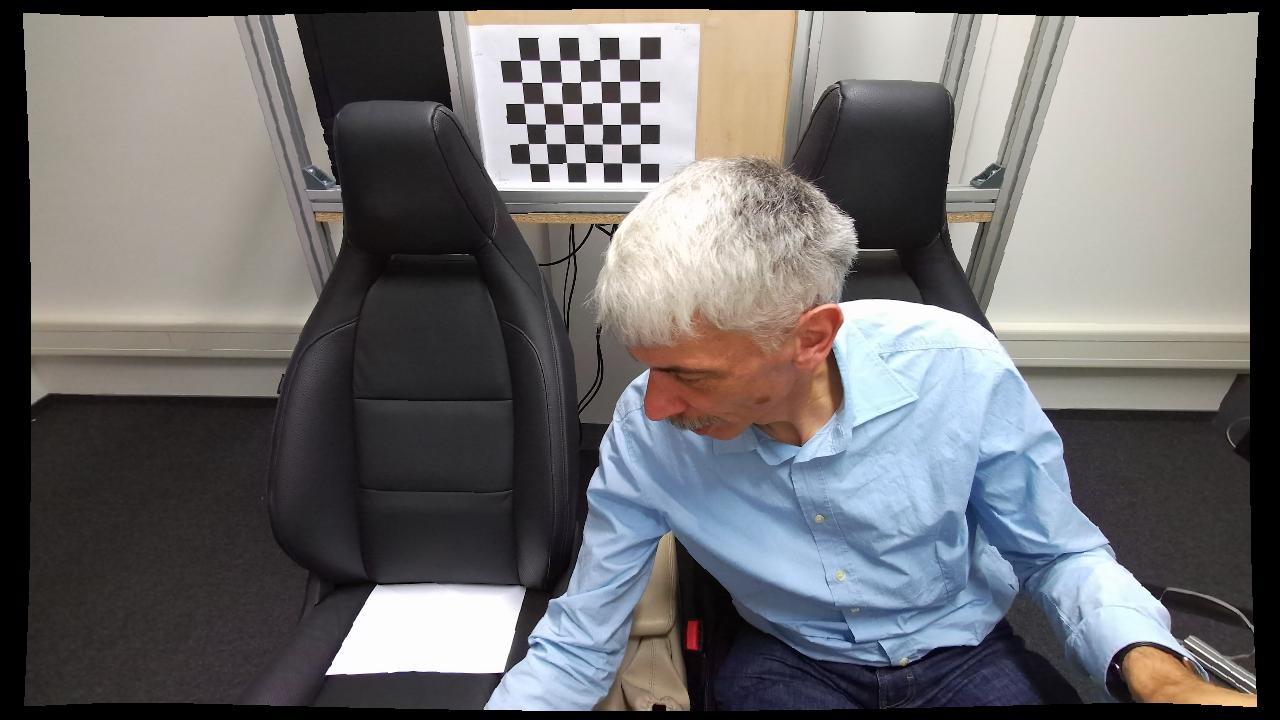Distracted: (479, 149, 1106, 708)
